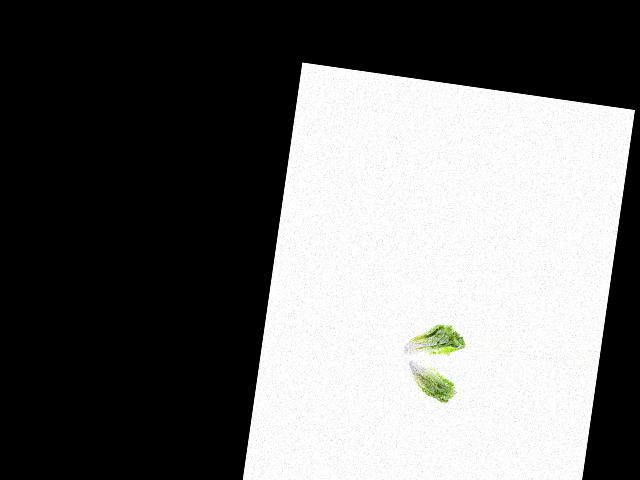lettuce: (397, 358, 459, 405)
